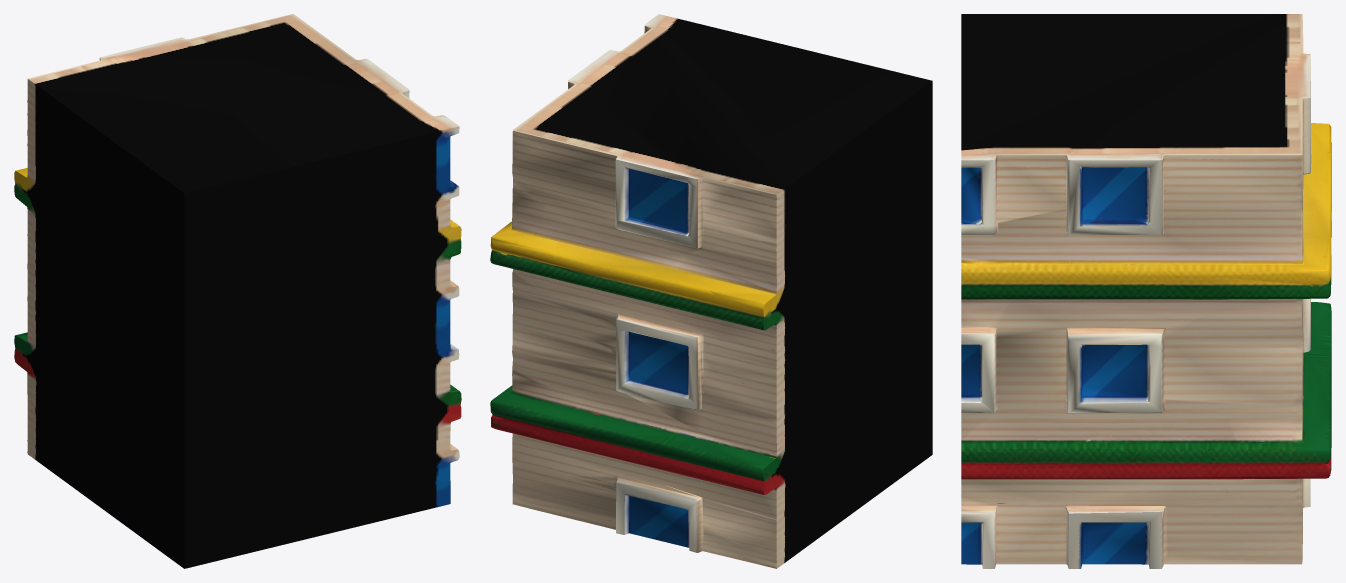
Rendered from 8-upper-walls-back-right.fbx.
3 views of the same model, side by side, from view 1: azimuth 30°, elevation 25°; view 2: azimuth 150°, elevation 25°; view 3: azimuth 270°, elevation 25° (orthographic). The views are drawn at different scales.
Parts seen in each view (by area): view 1: upper-walls-back-right; view 2: upper-walls-back-right; view 3: upper-walls-back-right.
Boxes of the visible parts, x1,y1,x2,y2 form: upper-walls-back-right: [14, 14, 461, 568]; upper-walls-back-right: [490, 14, 932, 568]; upper-walls-back-right: [961, 14, 1331, 568].
Bounding box in the file's own units: 4223 × 5466 × 4489.
Materials: 1 (1 with a texture image).
